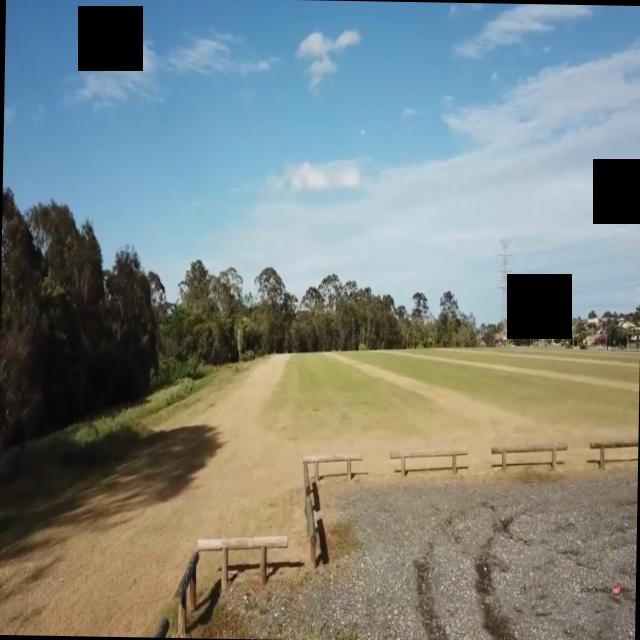Tree: (18, 200, 100, 426), (98, 244, 168, 378), (181, 252, 255, 361), (314, 270, 398, 353), (0, 176, 16, 495), (258, 264, 306, 350), (432, 288, 480, 350), (396, 289, 432, 354)
